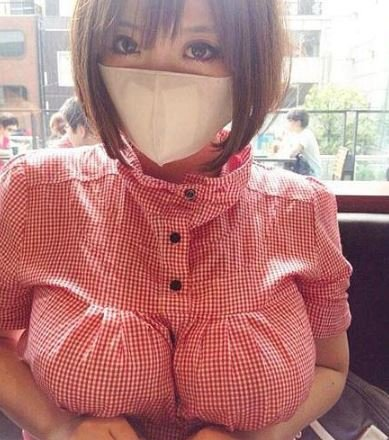face: (62, 118, 83, 150)
face_mask: (102, 1, 231, 163)
